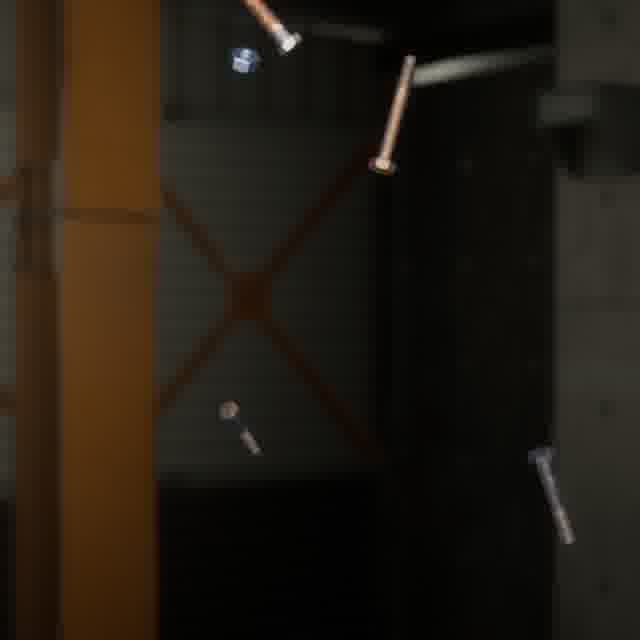bolt: (364, 50, 421, 178), (522, 441, 579, 549), (236, 0, 306, 61), (214, 396, 264, 461)
nut: (224, 43, 264, 77)
